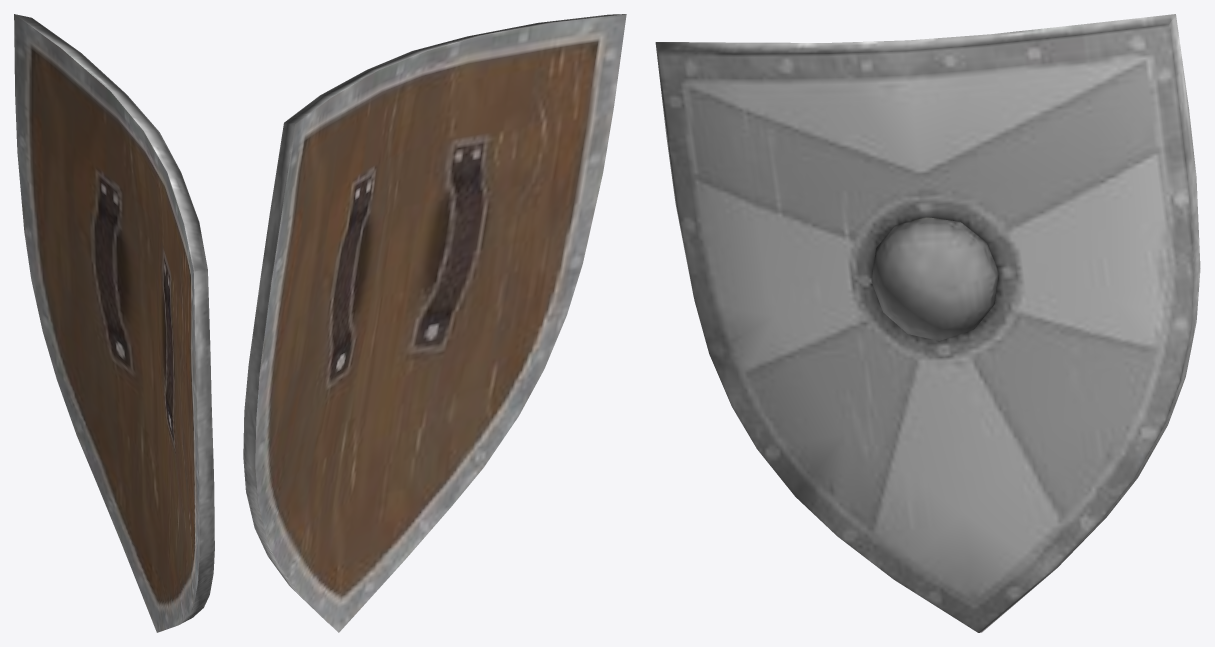
Rendered from rider-shield-slice-ironshields.glb.
The picture shows the model from 3 angles, left to right: view 1: azimuth 30°, elevation 25°; view 2: azimuth 150°, elevation 25°; view 3: azimuth 270°, elevation 25°; orthographic projection. The views are drawn at different scales.
Bounding box in the file's own units: 0.1831 × 0.7215 × 0.6013.
Materials: 1 (1 with a texture image).
